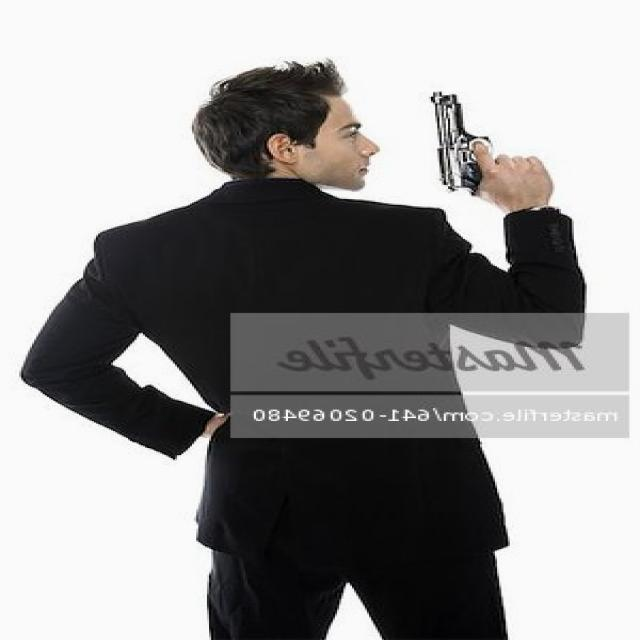pistol: (412, 86, 567, 200)
